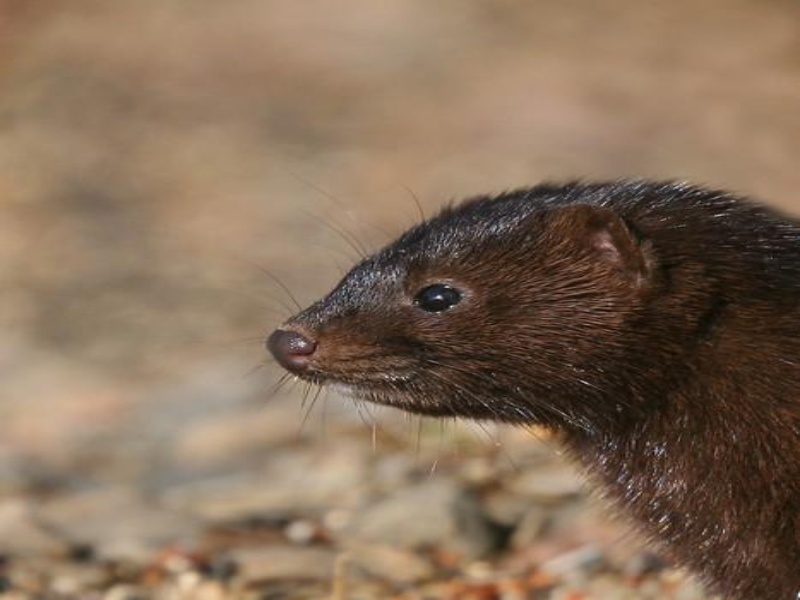minkish: (255, 172, 800, 590)
